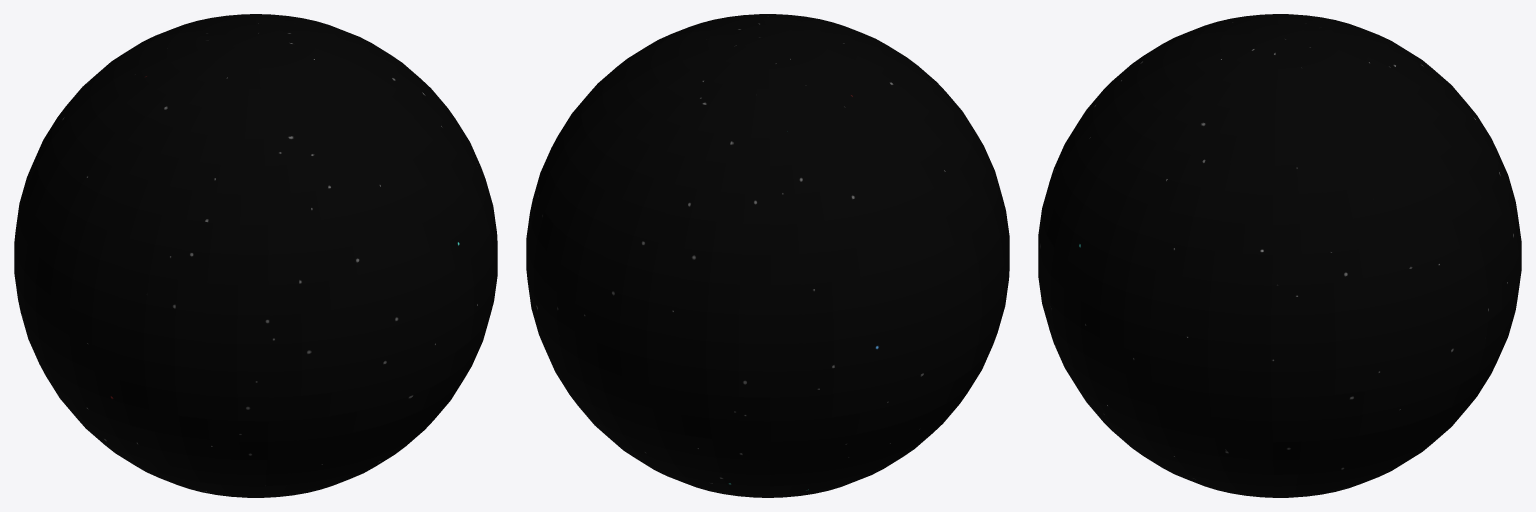
File: galaxybox.gltf
3 views of the same model, side by side, from view 1: azimuth 30°, elevation 25°; view 2: azimuth 150°, elevation 25°; view 3: azimuth 270°, elevation 25° (orthographic).
Parts seen in each view (by area): view 1: 球; view 2: 球; view 3: 球.
Boxes of the visible parts, x1,y1,x2,y2 form: 球: [14, 14, 497, 497]; 球: [526, 14, 1009, 497]; 球: [1038, 14, 1521, 497].
Bounding box in the file's own units: 571 × 572 × 570.
1 material, 1 textured.
